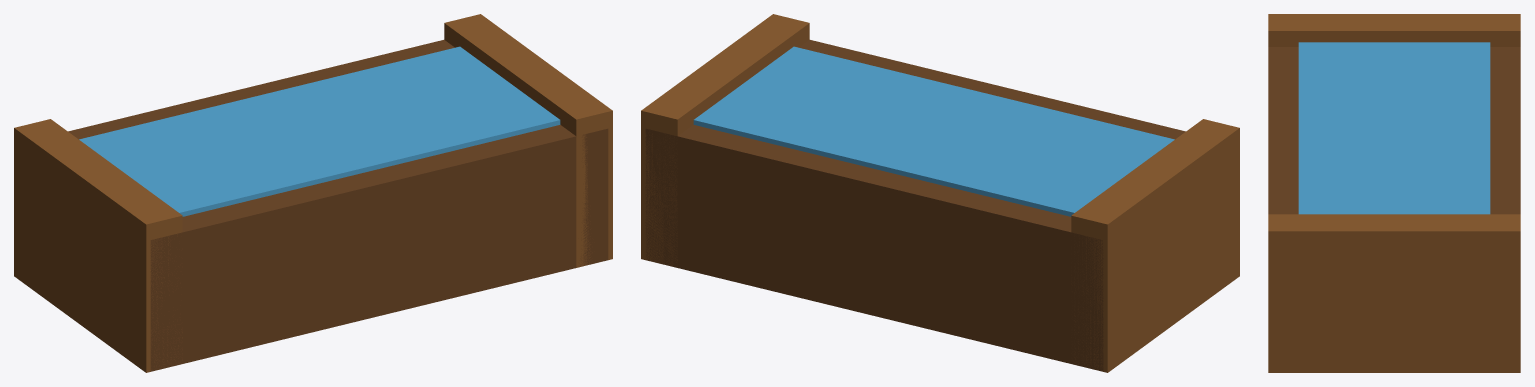
File: trough.glb
The picture shows the model from 3 angles, left to right: view 1: azimuth 30°, elevation 25°; view 2: azimuth 150°, elevation 25°; view 3: azimuth 270°, elevation 25°; orthographic projection. The views are drawn at different scales.
Bounding box in the file's own units: 2.04 × 0.62 × 1.
